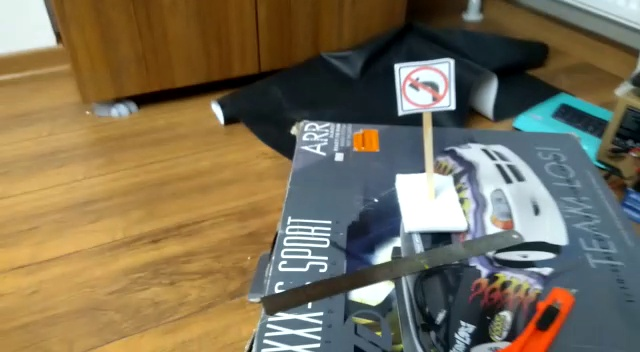sola_donulmez: (401, 60, 449, 110)
